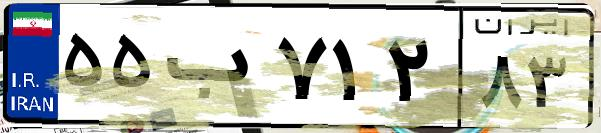1: (330, 28, 385, 110)
2: (385, 28, 445, 110)
3: (525, 38, 570, 115)
5: (57, 26, 110, 100), (110, 28, 158, 98)
7: (270, 28, 330, 110)
8: (475, 38, 525, 113)
ب: (158, 20, 270, 120)
